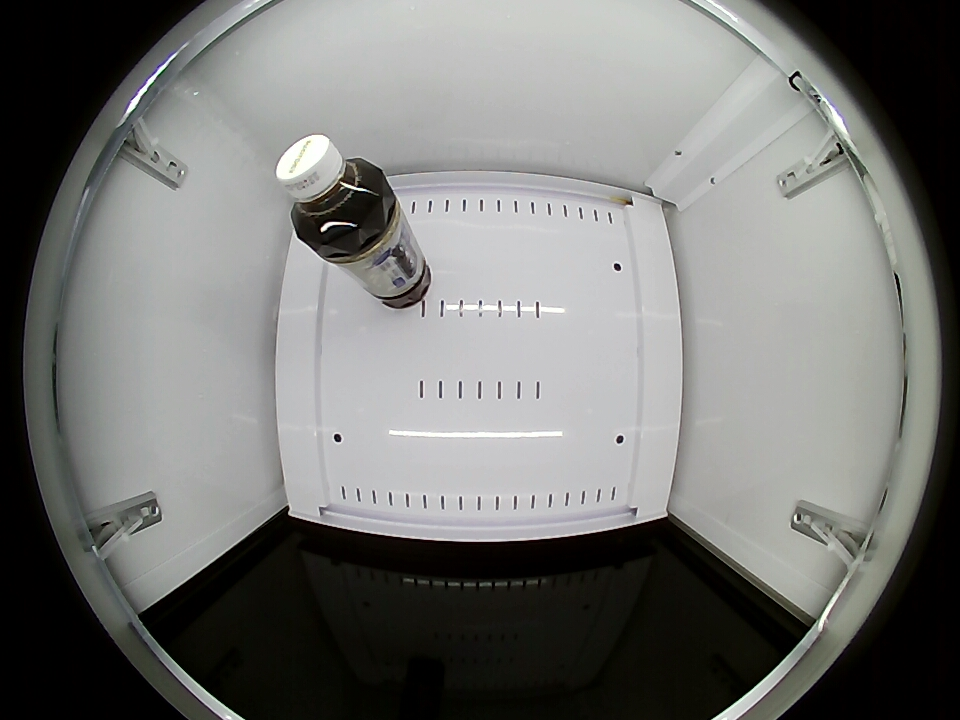wulongcha: (277, 133, 384, 246)
